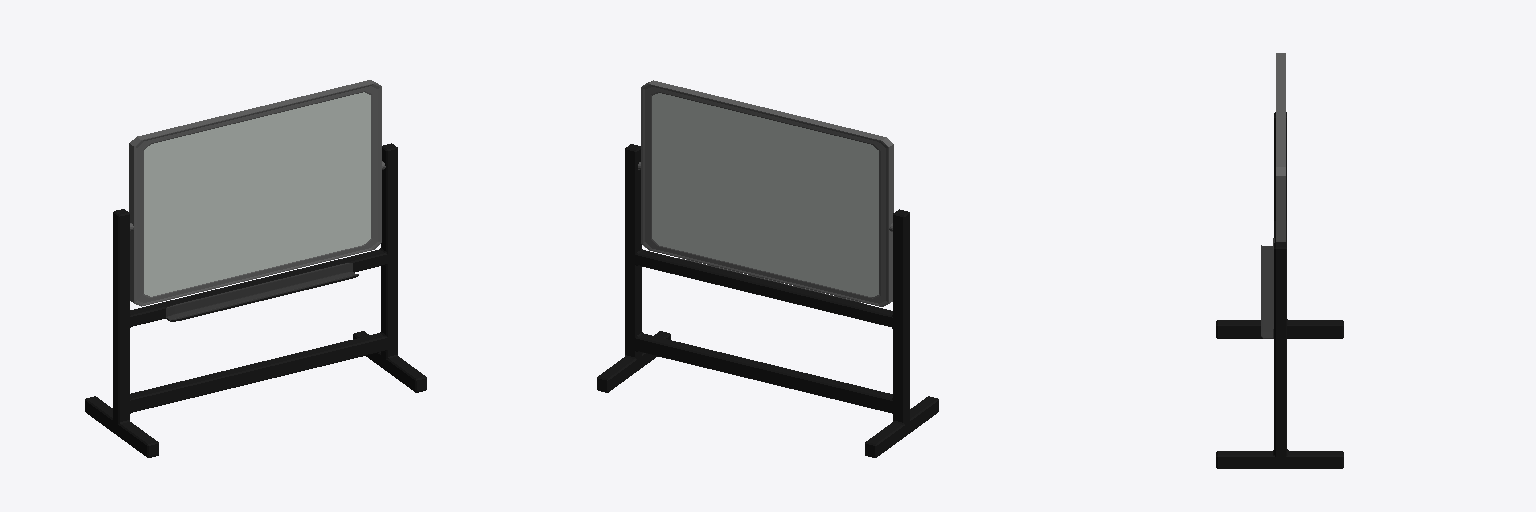
The model's file is doska.obj.
3 renders of one model, left to right at view 1: azimuth 30°, elevation 25°; view 2: azimuth 150°, elevation 25°; view 3: azimuth 270°, elevation 25°, orthographic.
Parts seen in each view (by area): view 1: Cube.001, Cube, Cube.003, Cube.002; view 2: Cube.001, Cube, Cube.003; view 3: Cube, Cube.003, Cube.002.
Part boxes in pixels (x1,y1,x2,y2): Cube.001: (144, 92, 370, 296); Cube: (85, 143, 426, 457); Cube.003: (129, 80, 381, 306); Cube.002: (165, 263, 358, 321); Cube.001: (652, 93, 878, 296); Cube: (597, 144, 938, 457); Cube.003: (641, 80, 893, 306); Cube: (1216, 112, 1343, 468); Cube.003: (1276, 53, 1285, 241); Cube.002: (1261, 238, 1274, 338).
Size of the model in its own units: 7.22 by 7.17 by 2.85.